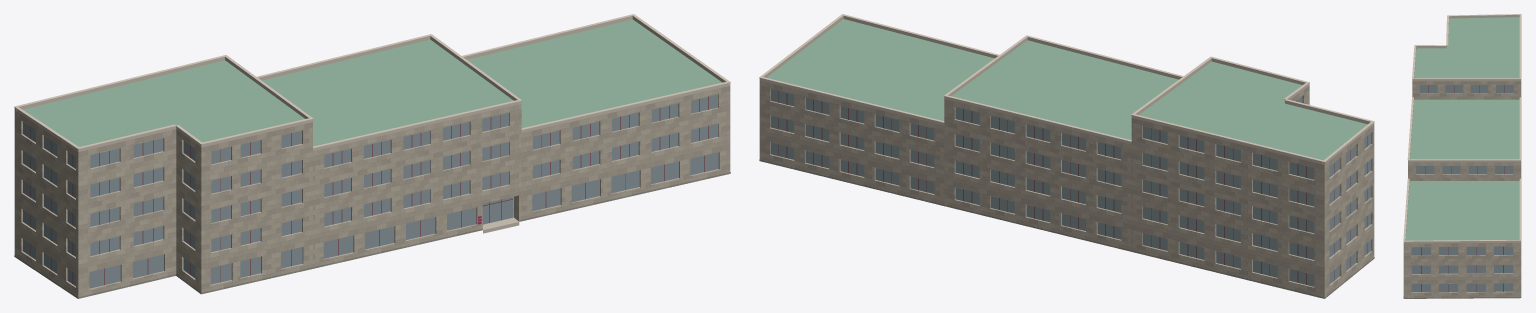
3 views of the same model, side by side, from view 1: azimuth 30°, elevation 25°; view 2: azimuth 150°, elevation 25°; view 3: azimuth 270°, elevation 25° (orthographic). The views are drawn at different scales.
Parts seen in each view (by area): view 1: osm136188883__wall, osm136188883__roof, osm136188883__glass, osm136188883__parapet, osm136188883__trim, osm136188883__frame, osm136188883__base; view 2: osm136188883__wall, osm136188883__roof, osm136188883__glass, osm136188883__parapet, osm136188883__trim, osm136188883__frame, osm136188883__base; view 3: osm136188883__roof, osm136188883__wall, osm136188883__glass, osm136188883__trim, osm136188883__parapet, osm136188883__base, osm136188883__frame.
Boxes of the visible parts, x1,y1,x2,y2 form: osm136188883__wall: (14,86,730,298); osm136188883__roof: (23,19,721,146); osm136188883__glass: (23,94,718,288); osm136188883__parapet: (14,15,730,152); osm136188883__trim: (14,14,730,149); osm136188883__frame: (30,96,708,285); osm136188883__base: (14,172,730,298); osm136188883__wall: (759,81,1374,298); osm136188883__roof: (766,19,1367,160); osm136188883__glass: (770,89,1370,286); osm136188883__parapet: (759,15,1374,164); osm136188883__trim: (759,14,1374,162); osm136188883__frame: (778,91,1367,284); osm136188883__base: (759,159,1374,298); osm136188883__roof: (1405,17,1520,298); osm136188883__wall: (1403,81,1521,297); osm136188883__glass: (1411,85,1513,292); osm136188883__trim: (1403,14,1521,241); osm136188883__parapet: (1403,15,1521,243); osm136188883__base: (1403,297,1521,298); osm136188883__frame: (1421,85,1504,292).
Size of the model in its own units: 80.08 by 18.85 by 21.01.
Materials: 10 (2 with a texture image).
